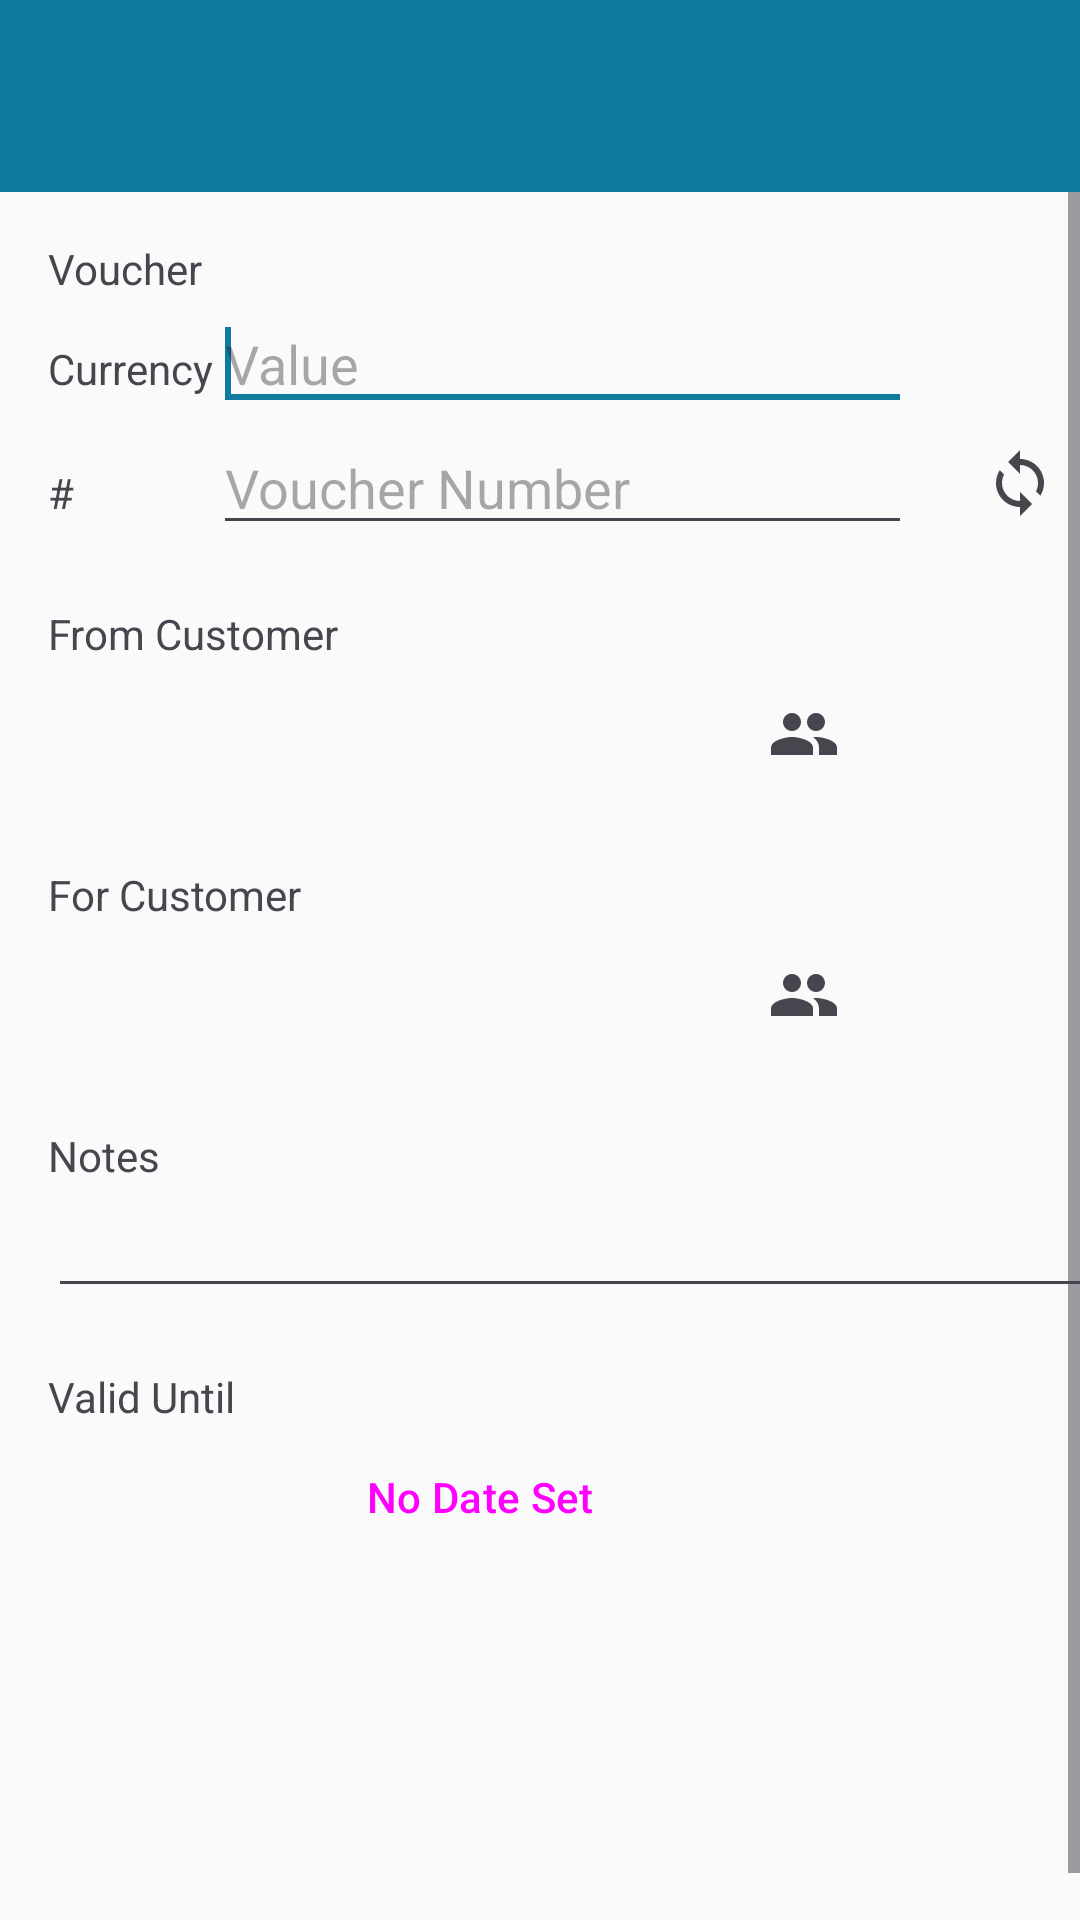

Screen size 1080w x 1920h. Icon name, then its box in pixels as {"x1": x1, "y1": y1, "x2": x2, "y2": y2}:
people dynamic: {"x1": 771, "y1": 713, "x2": 837, "y2": 755}, {"x1": 771, "y1": 974, "x2": 837, "y2": 1016}
